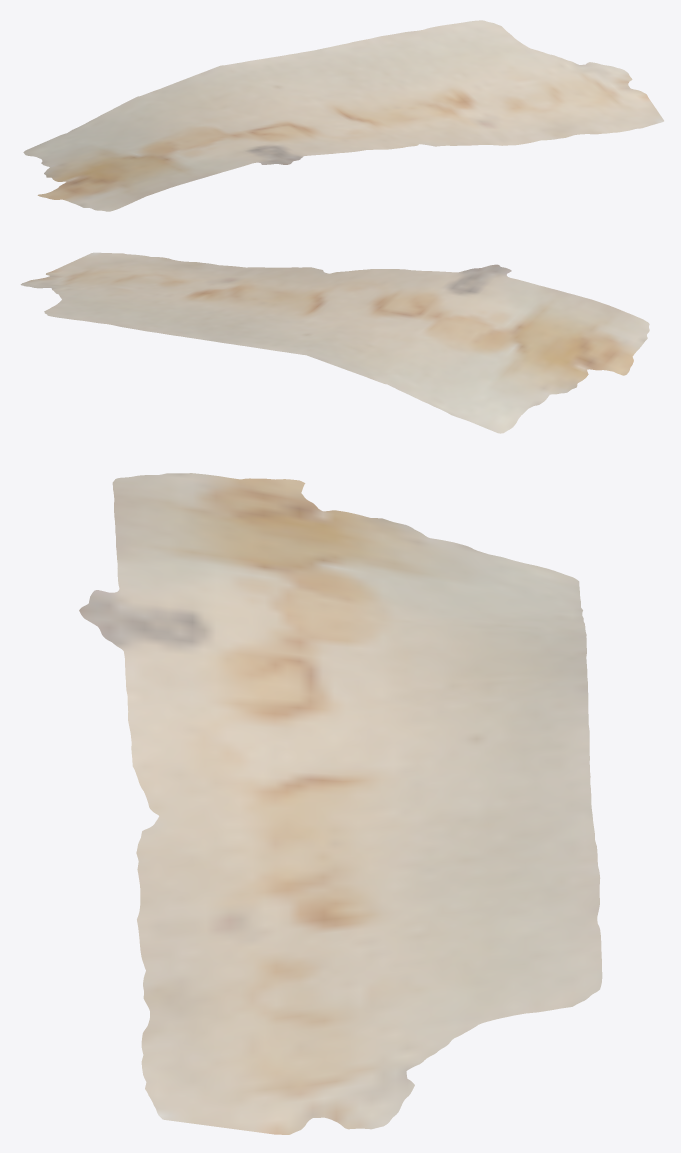
File: SM_Paper_006.fbx
The picture shows the model from 3 angles, top to bottom: view 1: azimuth 30°, elevation 25°; view 2: azimuth 150°, elevation 25°; view 3: azimuth 270°, elevation 25°; orthographic projection. The views are drawn at different scales.
Visible parts, largest first — view 1: SM_Paper_006; view 2: SM_Paper_006; view 3: SM_Paper_006.
Boxes of the visible parts, box(x1,y1,x2,y2) form: SM_Paper_006: box(23, 20, 663, 211); SM_Paper_006: box(20, 252, 649, 433); SM_Paper_006: box(79, 473, 602, 1134).
Size of the model in its own units: 21.48 by 8.63 by 2.45.
Materials: 1 (1 with a texture image).
